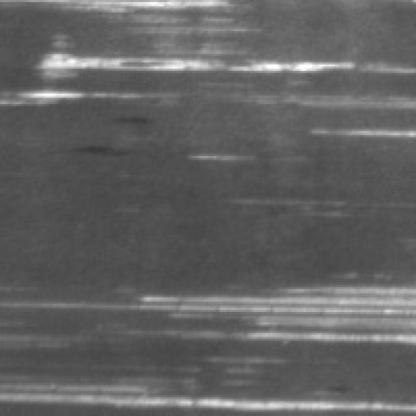scratches: (0, 35, 412, 127), (89, 276, 412, 344), (0, 376, 412, 410)
